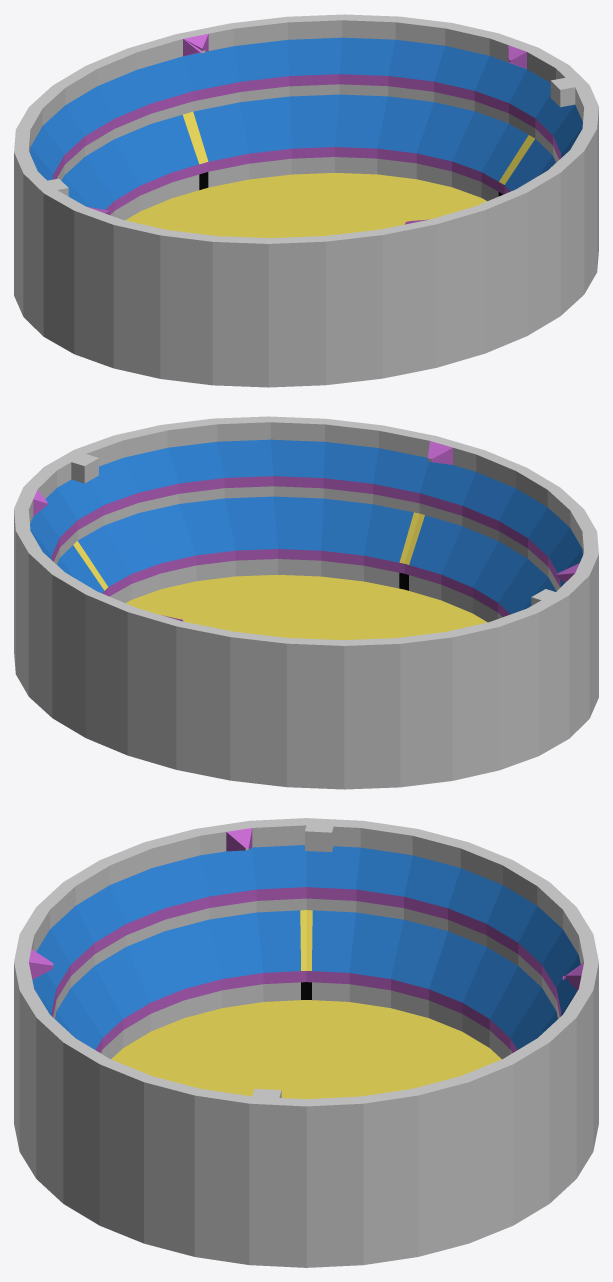
File: shit.dae
3 views of the same model, one above another, from view 1: azimuth 30°, elevation 25°; view 2: azimuth 150°, elevation 25°; view 3: azimuth 270°, elevation 25° (orthographic). The views are drawn at different scales.
Parts seen in each view (by area): view 1: Cylinder; view 2: Cylinder; view 3: Cylinder.
Part boxes in pixels (bbox=[...]): Cylinder: bbox=[14, 14, 598, 387]; Cylinder: bbox=[14, 416, 598, 789]; Cylinder: bbox=[14, 818, 598, 1267].
Bounding box in the file's own units: 164 × 141 × 42.88.
